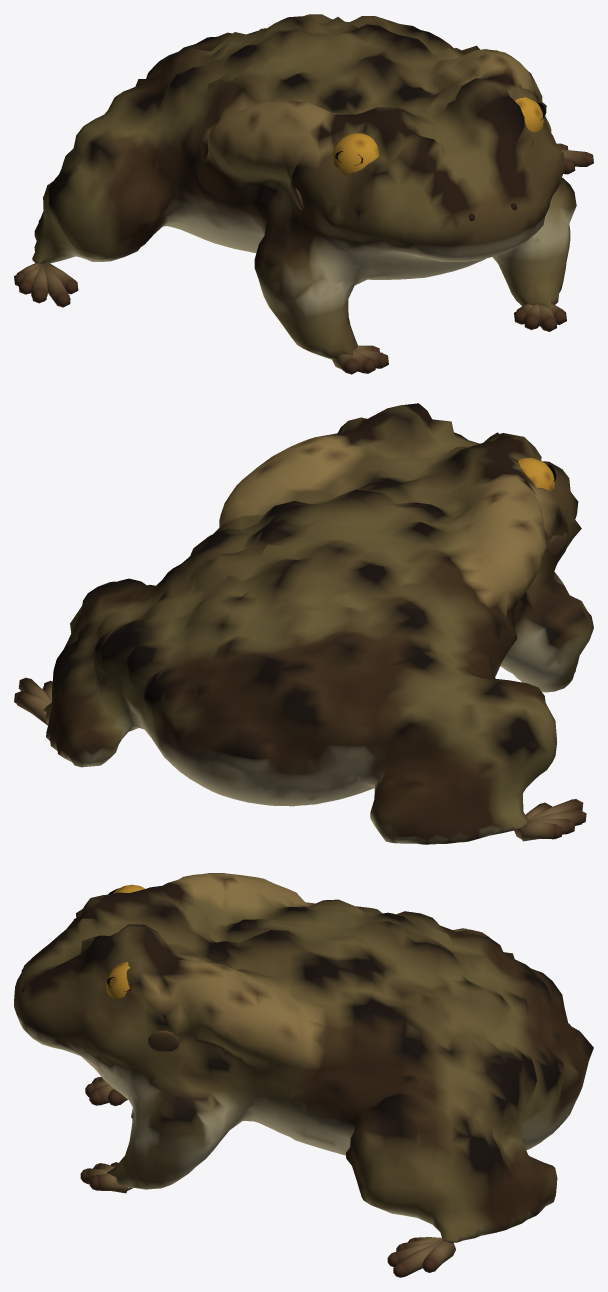
Rendered from CaneToad.fbx.
The picture shows the model from 3 angles, top to bottom: view 1: azimuth 30°, elevation 25°; view 2: azimuth 150°, elevation 25°; view 3: azimuth 270°, elevation 25°; orthographic projection. The views are drawn at different scales.
Parts seen in each view (by area): view 1: CaneToad; view 2: CaneToad; view 3: CaneToad.
Boxes of the visible parts, x1=… form: CaneToad: x1=14, y1=14, x2=593, y2=374; CaneToad: x1=14, y1=403, x2=593, y2=844; CaneToad: x1=14, y1=873, x2=593, y2=1277.
Size of the model in its own units: 0.517 by 0.2171 by 0.4708.
